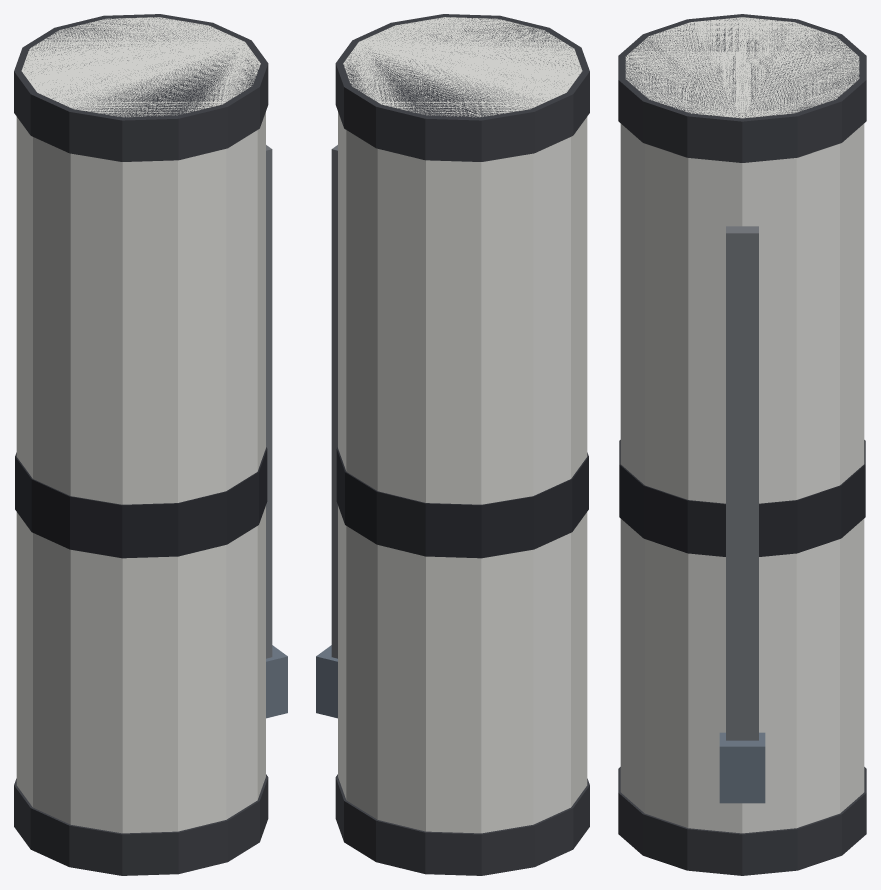
The model's file is Tank_S_Long.fbx.
3 views of the same model, side by side, from view 1: azimuth 30°, elevation 25°; view 2: azimuth 150°, elevation 25°; view 3: azimuth 270°, elevation 25° (orthographic).
Visible parts, largest first — view 1: Tank_S_Long; view 2: Tank_S_Long; view 3: Tank_S_Long.
Part boxes in pixels (left/top/right/bottom): Tank_S_Long: left=14, top=14, right=287, bottom=875; Tank_S_Long: left=316, top=14, right=589, bottom=875; Tank_S_Long: left=618, top=14, right=866, bottom=875.
Size of the model in its own units: 1.36 by 4 by 1.19.
1 material, 1 textured.
